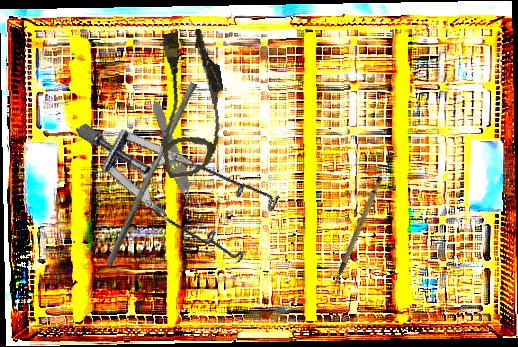Cannula: (145, 26, 236, 179)
Pusher: (105, 79, 198, 270)
Scalpel Handle: (316, 175, 397, 287)
Speculum: (75, 60, 298, 301)
Tissue Forceps: (146, 100, 200, 214)
